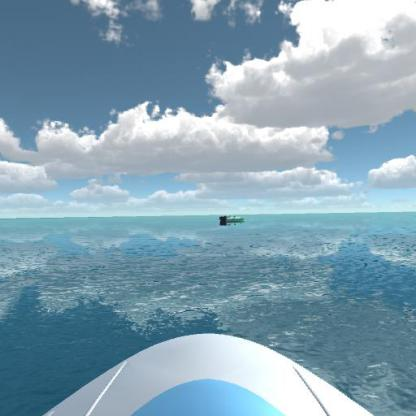usv0: (219, 206, 250, 229)
